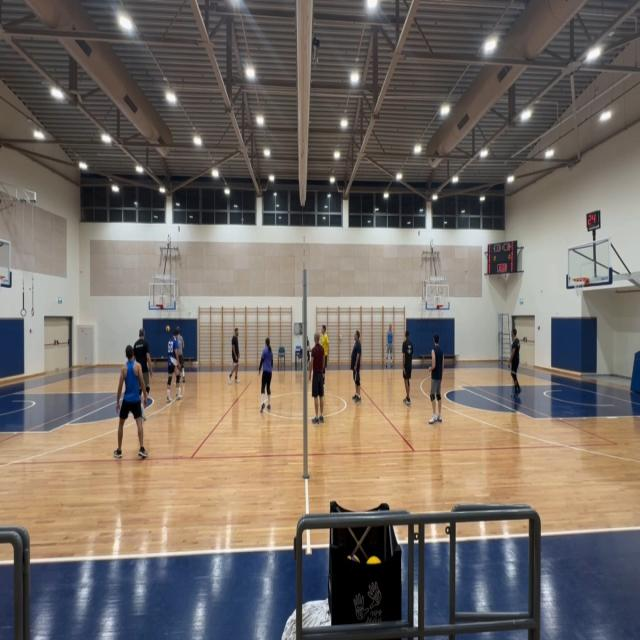volleyball: (166, 325, 170, 332)
